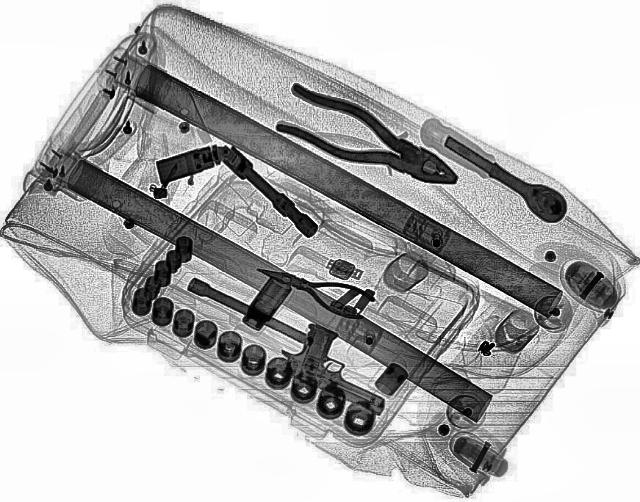Gun: (266, 320, 419, 416)
Pliers: (260, 77, 476, 200), (245, 252, 379, 324)
